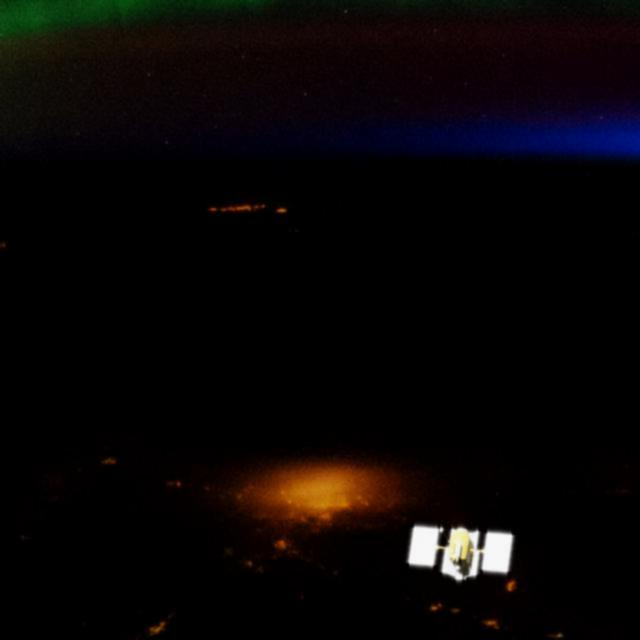satellite: (393, 516, 523, 587)
